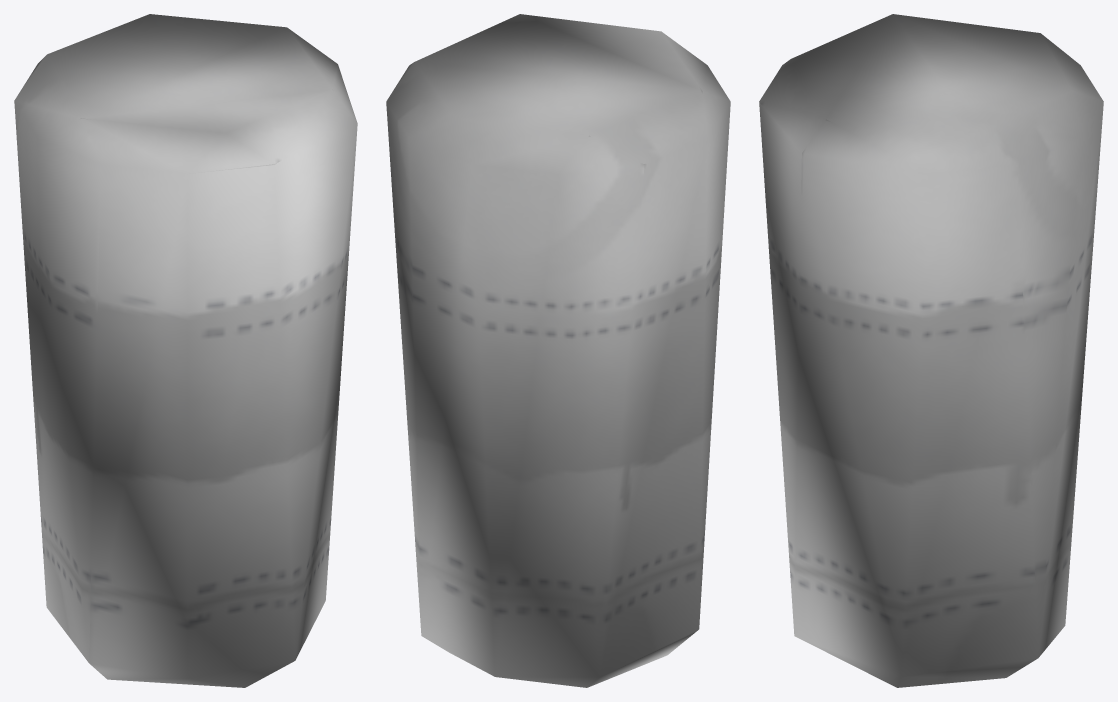
Rendered from RightHand_C1.fbx.
The picture shows the model from 3 angles, left to right: view 1: azimuth 30°, elevation 25°; view 2: azimuth 150°, elevation 25°; view 3: azimuth 270°, elevation 25°; orthographic projection.
Parts seen in each view (by area): view 1: Civ_Cafe_RightHand_C1; view 2: Civ_Cafe_RightHand_C1; view 3: Civ_Cafe_RightHand_C1.
Boxes of the visible parts, bbox=[...] form: Civ_Cafe_RightHand_C1: bbox=[14, 14, 357, 687]; Civ_Cafe_RightHand_C1: bbox=[386, 14, 730, 687]; Civ_Cafe_RightHand_C1: bbox=[759, 14, 1103, 687].
Size of the model in its own units: 0.3538 by 0.6441 by 0.3538.
